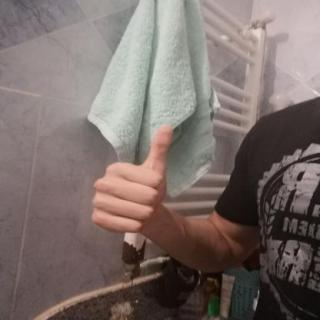ALIF: (83, 118, 186, 240)
